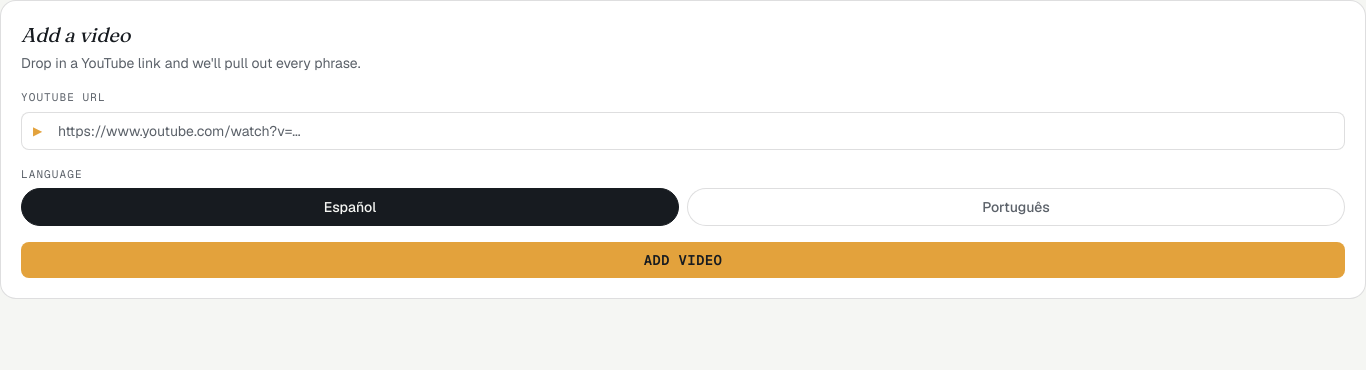
Test: IngestForm › shows a status message for an already-ingested video
Type "https://www.youtube.com/watch?v=abc123" into the field labelled "YouTube URL" at point(683, 130), box [21,112,1345,150]
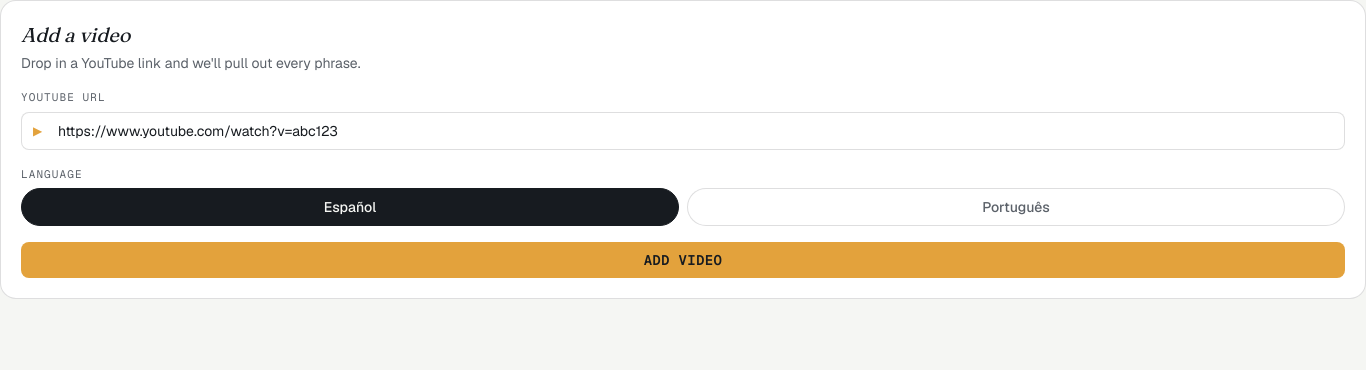
Click the button "Add video" at point(683, 260), box [21,242,1345,278]
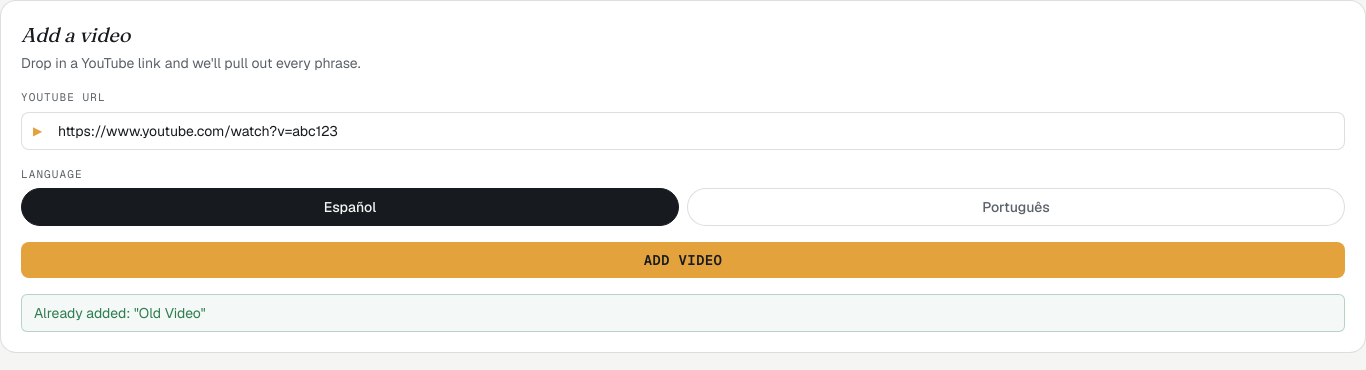
expect the message reads "Already added: \"Old Video\"": met, box [34,304,206,322]
